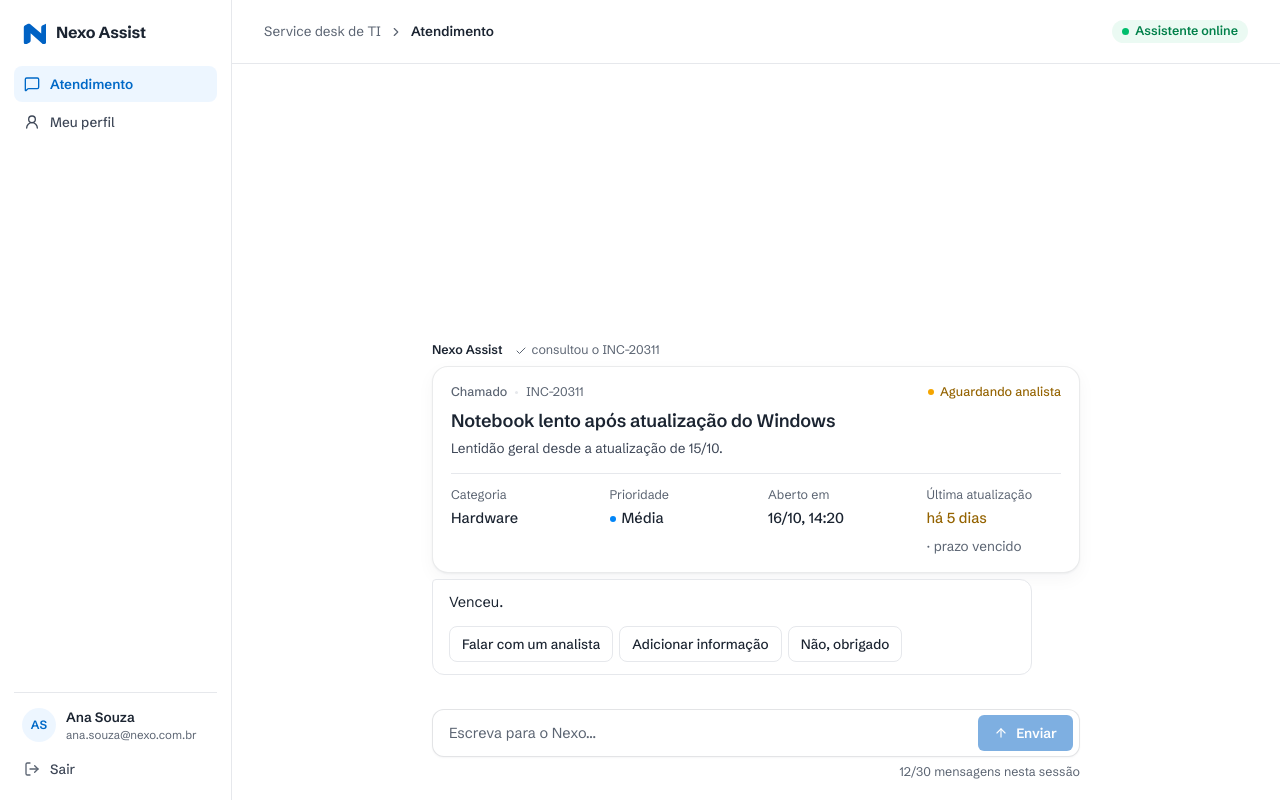
it: tela do chat (tela 2) › tela 3: escolher um chamado e a oferta de analista (RF08, RF09, RN07) › Adicionar informação começa a frase no campo de mensagem, com o foco nele
The image size is (1280, 800).
Click the button "Adicionar informação" at (700, 644), box 619,626 -> 782,662
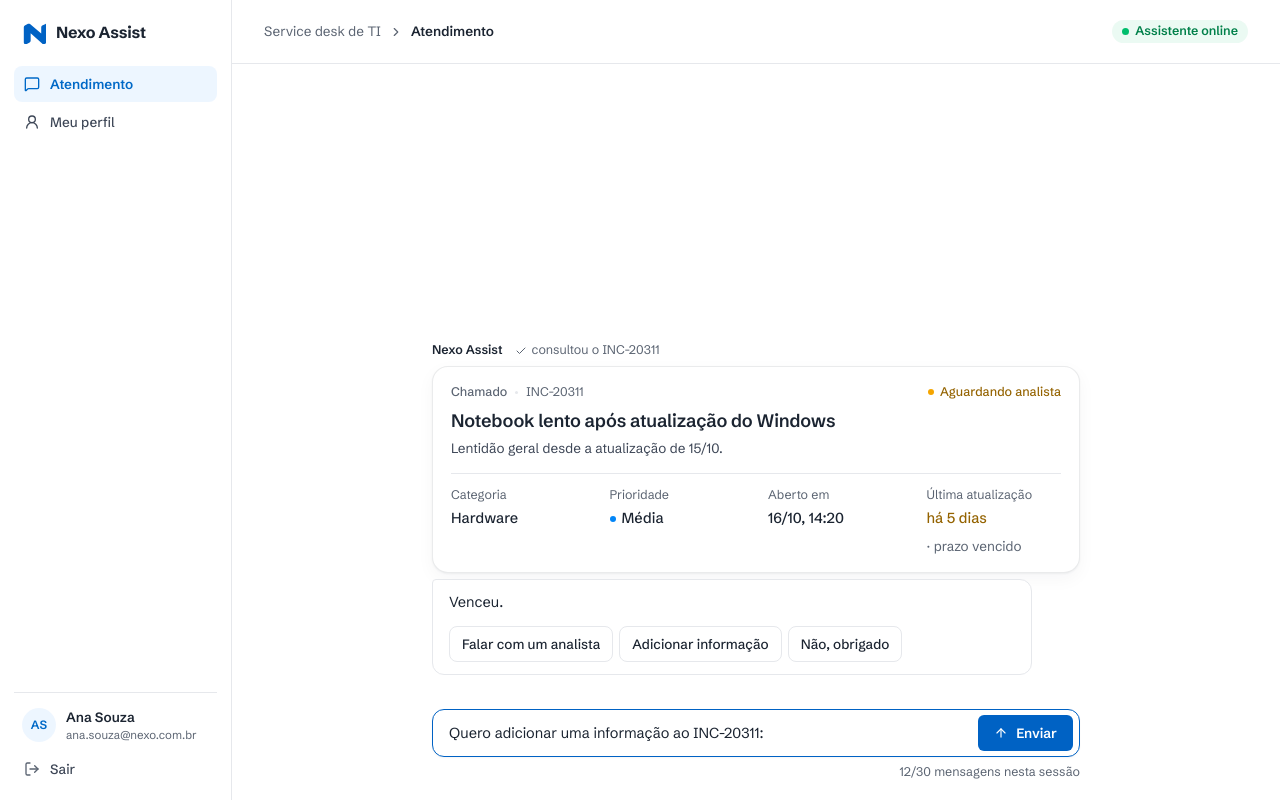
Expected: the field named "Mensagem para o Nexo" holds "Quero adicionar uma informação ao INC-20311: ", 449,710 -> 970,756
